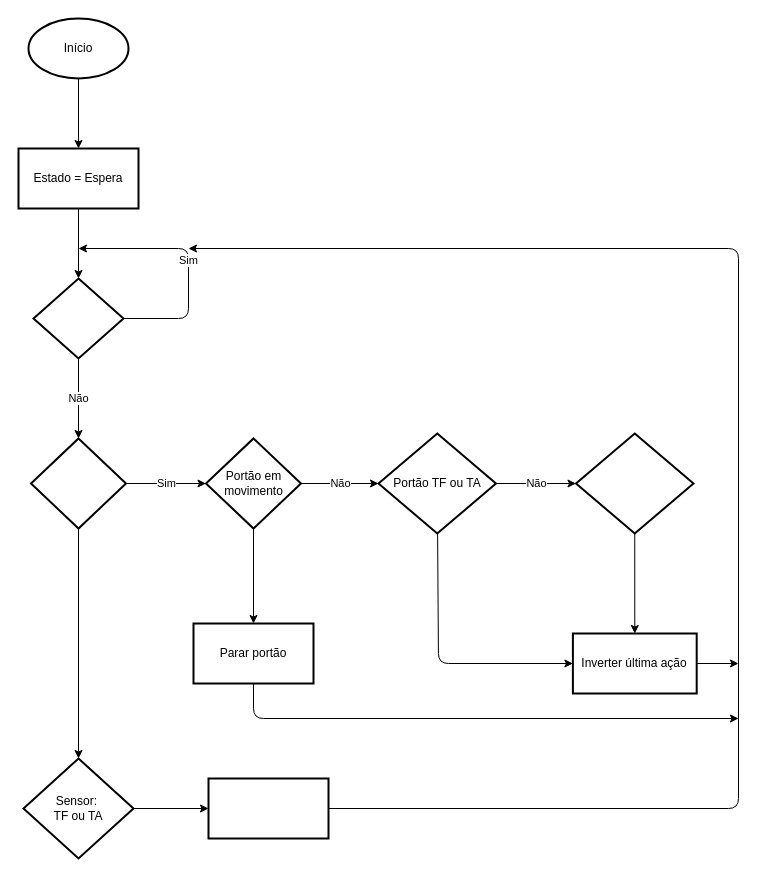
Some shapes in this 764 by 876 pixel diagram are drawn without their labels. Here are the shapes that lost their labels. From the top down, the box of each, then its label:
(32, 277, 124, 359): Caso Espera
(30, 437, 126, 529): Botão B Pressionado
(574, 432, 694, 534): Portão parado (nem fechado, nem aberto)
(207, 777, 329, 839): Desliga motor
